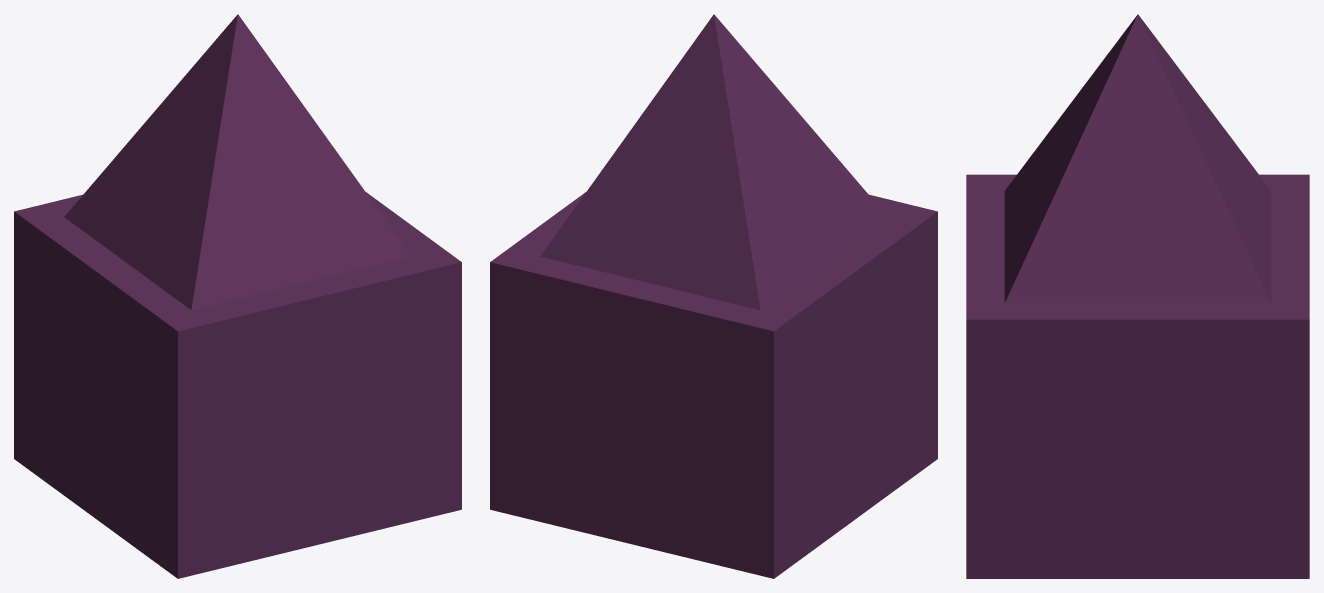
File: book-stack.obj
3 renders of one model, left to right at view 1: azimuth 30°, elevation 25°; view 2: azimuth 150°, elevation 25°; view 3: azimuth 270°, elevation 25°, orthographic. The views are drawn at different scales.
Parts seen in each view (by area): view 1: cozy-generic-base, cozy-generic-top; view 2: cozy-generic-base, cozy-generic-top; view 3: cozy-generic-base, cozy-generic-top.
Boxes of the visible parts, left/top/right/bottom form: cozy-generic-base: left=14, top=192, right=461, bottom=578; cozy-generic-top: left=64, top=14, right=411, bottom=310; cozy-generic-base: left=490, top=192, right=937, bottom=578; cozy-generic-top: left=540, top=14, right=887, bottom=310; cozy-generic-base: left=966, top=174, right=1309, bottom=578; cozy-generic-top: left=1004, top=14, right=1271, bottom=303.
Size of the model in its own units: 0.72 by 1.14 by 0.72.
